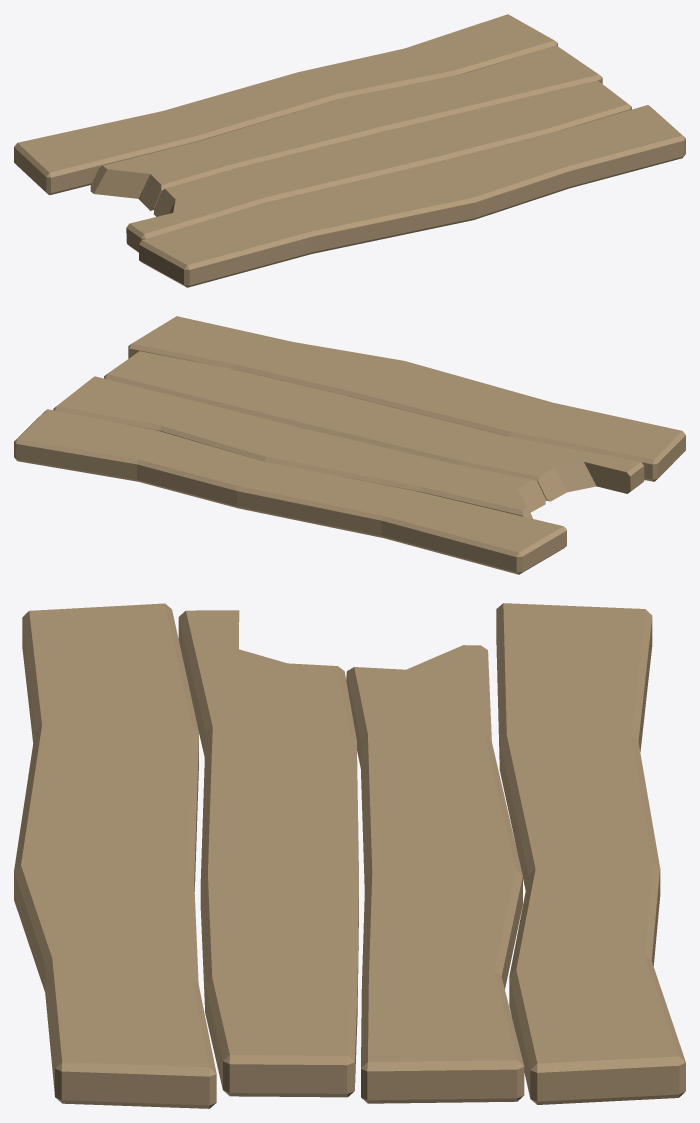
File: TreePlatform1.fbx
3 renders of one model, top to bottom at view 1: azimuth 30°, elevation 25°; view 2: azimuth 150°, elevation 25°; view 3: azimuth 270°, elevation 25°, orthographic. The views are drawn at different scales.
Visible parts, largest first — view 1: TreePlatform1; view 2: TreePlatform1; view 3: TreePlatform1.
Boxes of the visible parts, x1,y1,x2,y2 form: TreePlatform1: (14, 14, 685, 287); TreePlatform1: (14, 316, 685, 574); TreePlatform1: (14, 603, 685, 1108).
Size of the model in its own units: 405 by 16.66 by 244.
1 material, 1 textured.
